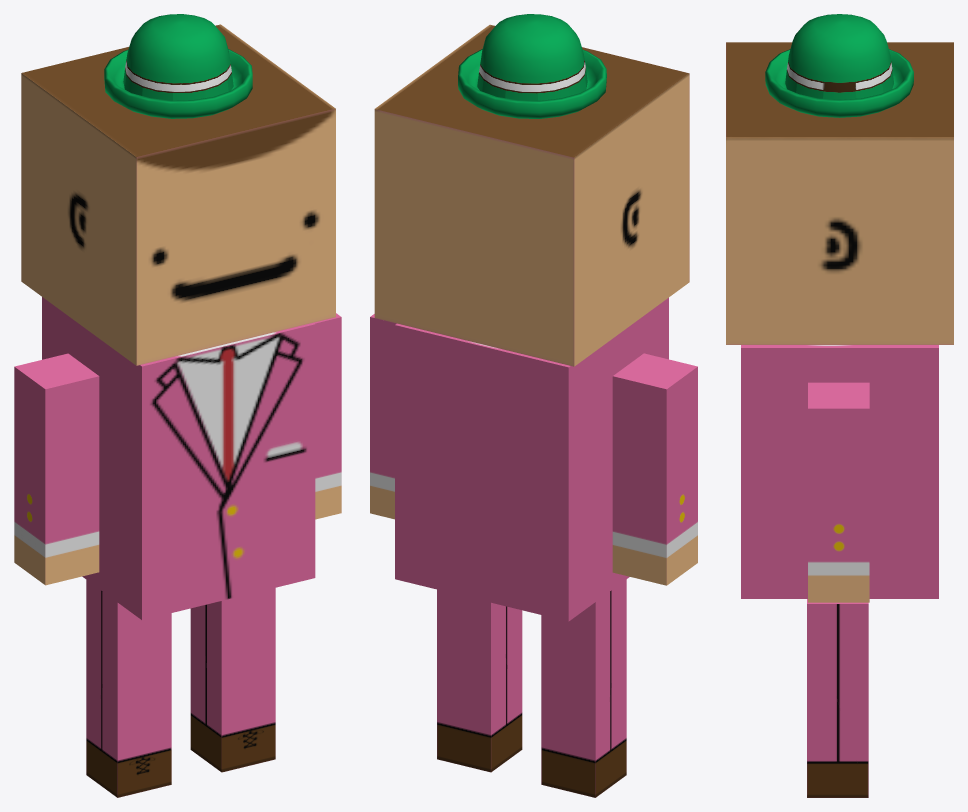
Rendered from cubeMan_UV.fbx.
3 views of the same model, side by side, from view 1: azimuth 30°, elevation 25°; view 2: azimuth 150°, elevation 25°; view 3: azimuth 270°, elevation 25° (orthographic).
Parts seen in each view (by area): view 1: head, chest, rightArm, rightLeg, leftLeg, hat, leftArm; view 2: head, chest, rightArm, rightLeg, leftLeg, hat, leftArm; view 3: head, chest, leftArm, leftLeg, hat.
Part boxes in pixels (x1,y1,x2,y2): head: (21,24,335,365); chest: (42,297,315,620); rightArm: (14,353,99,585); rightLeg: (86,580,171,797); leftLeg: (190,588,275,772); hat: (104,14,252,118); leftArm: (314,313,341,519); head: (374,24,689,366); chest: (395,297,668,621); rightArm: (612,353,697,585); rightLeg: (541,579,626,797); leftLeg: (437,589,522,772); hat: (458,14,606,118); leftArm: (370,314,396,519); head: (726,42,953,344); chest: (741,345,938,598); leftArm: (808,382,869,602); leftLeg: (807,599,868,797); hat: (765,14,913,117).
Size of the model in its own units: 5.49 by 13.21 by 3.7.
2 materials, 2 textured.
